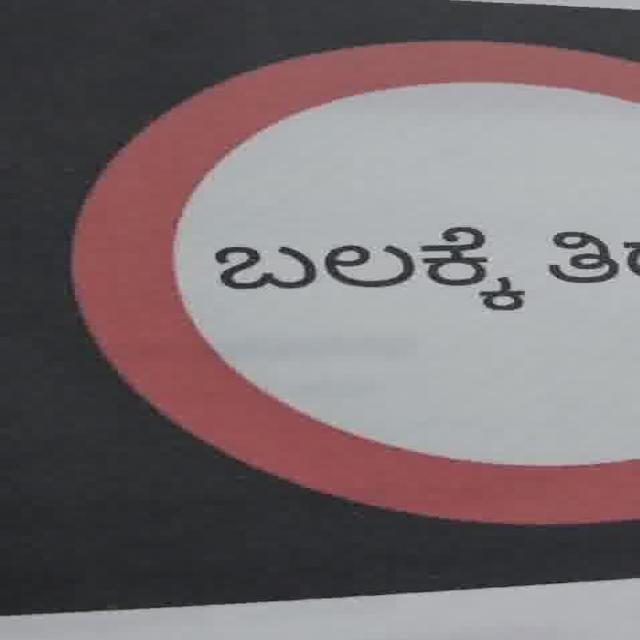kannadaright: (152, 216, 533, 327), (185, 229, 520, 326)
